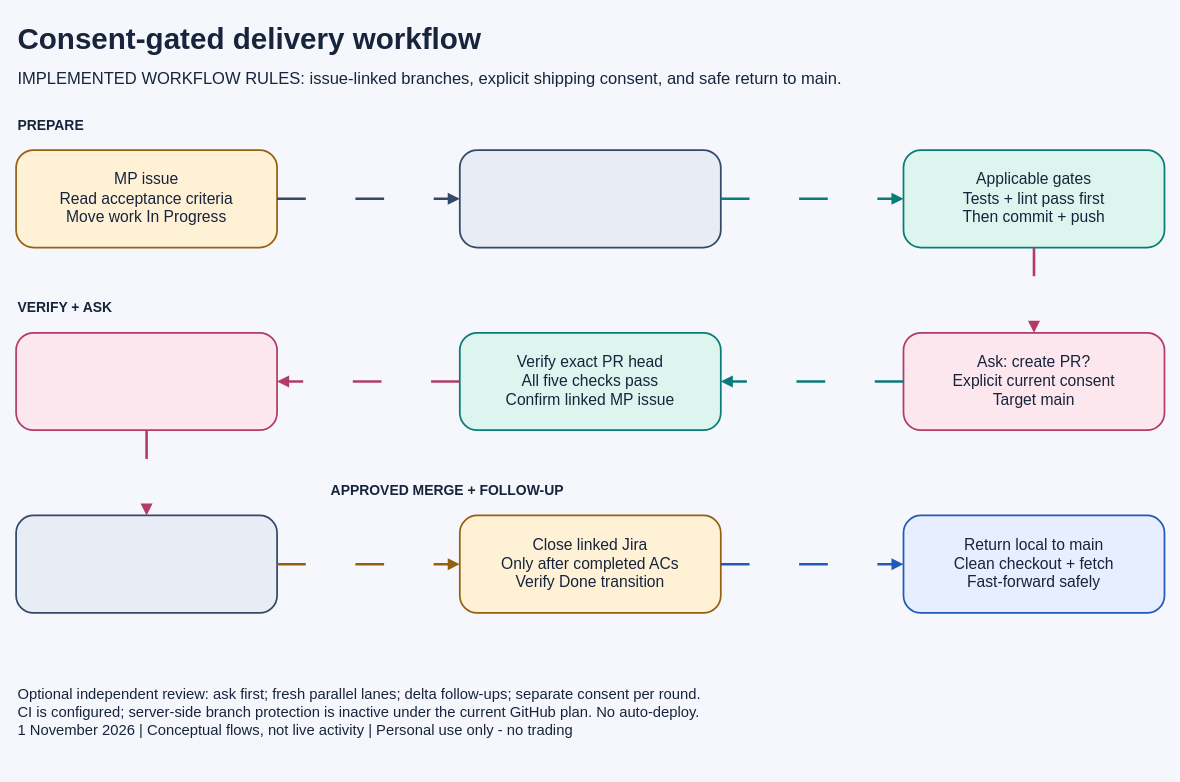
The diagram is 1180 pixels wide and 782 high, and some of its shapes have lost their labels. Here are the shapes that lost their labels. From the top down, the centre of each, then its label:
pixel 589 198: Feature branch Start from current main Preserve user changes
pixel 146 381: Ask: merge + close? Name PR, head + MP key Wait for clear consent
pixel 146 563: Merge and confirm Expected-head guard No branch deletion
